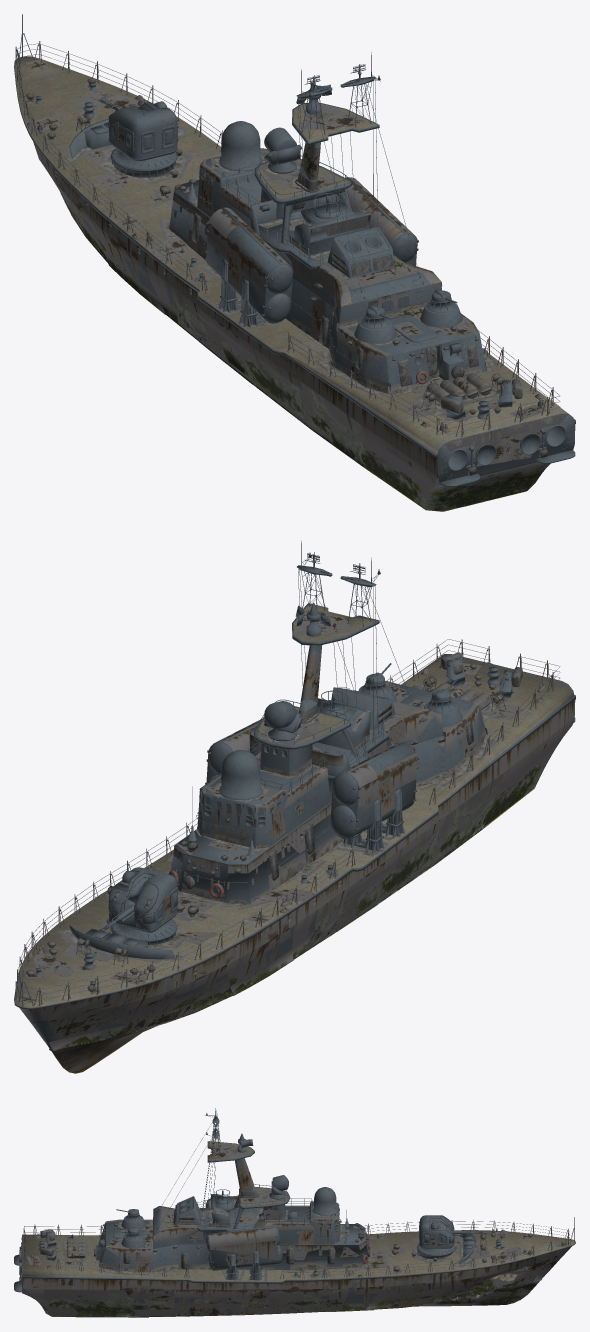
File: damaged-missile-boat.fbx
3 views of the same model, one above another, from view 1: azimuth 30°, elevation 25°; view 2: azimuth 150°, elevation 25°; view 3: azimuth 270°, elevation 25° (orthographic). The views are drawn at different scales.
Visible parts, largest first — view 1: New object; view 2: New object; view 3: New object.
Boxes of the visible parts, bbox=[...] form: New object: bbox=[14, 14, 575, 511]; New object: bbox=[14, 540, 575, 1073]; New object: bbox=[14, 1108, 575, 1317].
Bounding box in the file's own units: 6845 × 13445 × 35237.
